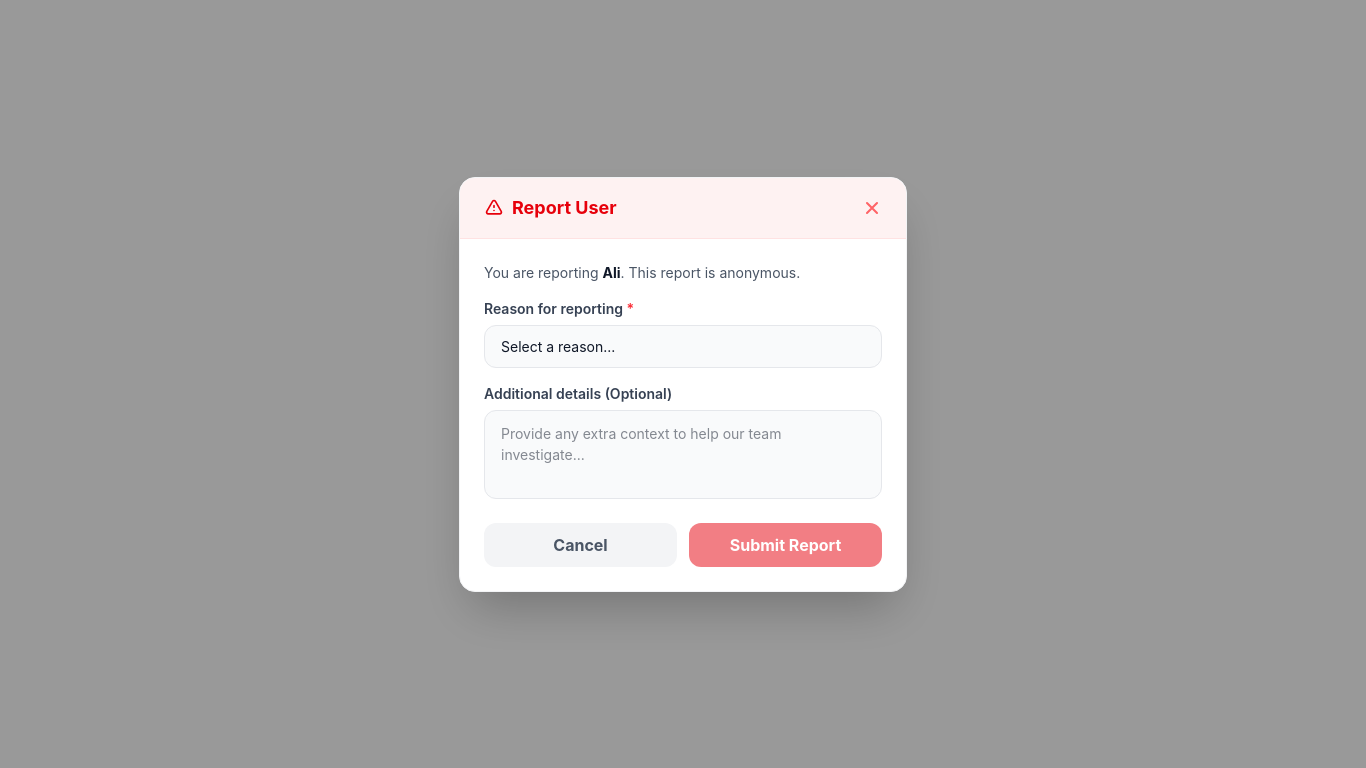
Test case: ReportModal › should submit report successfully
The image size is (1366, 768).
// Select report reason
Select "Spam or misleading" in the dropdown at (683, 346), box [484,324,882,368]
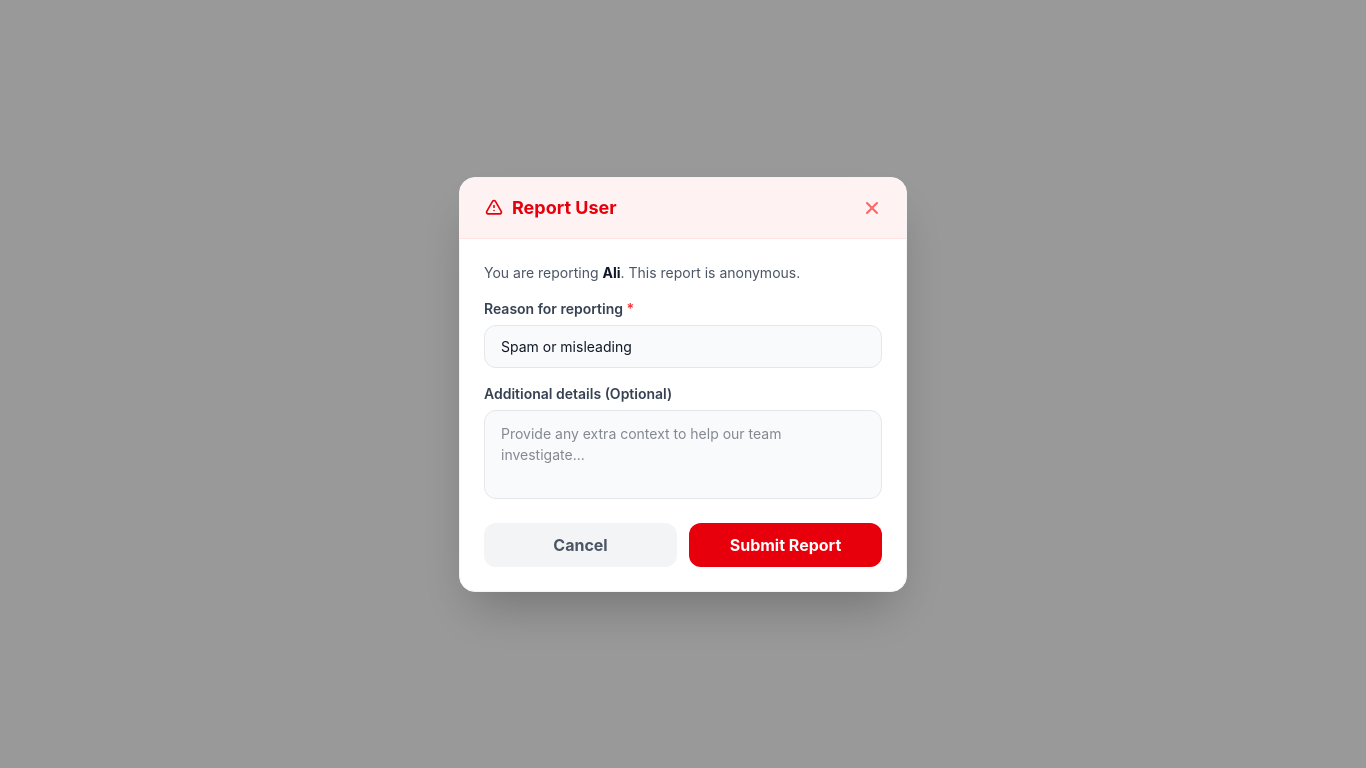
// Enter description
Type "This account is posting spam." into the text box with placeholder "Provide any extra context to help our team investigate..." at (683, 454), box [484,410,882,498]
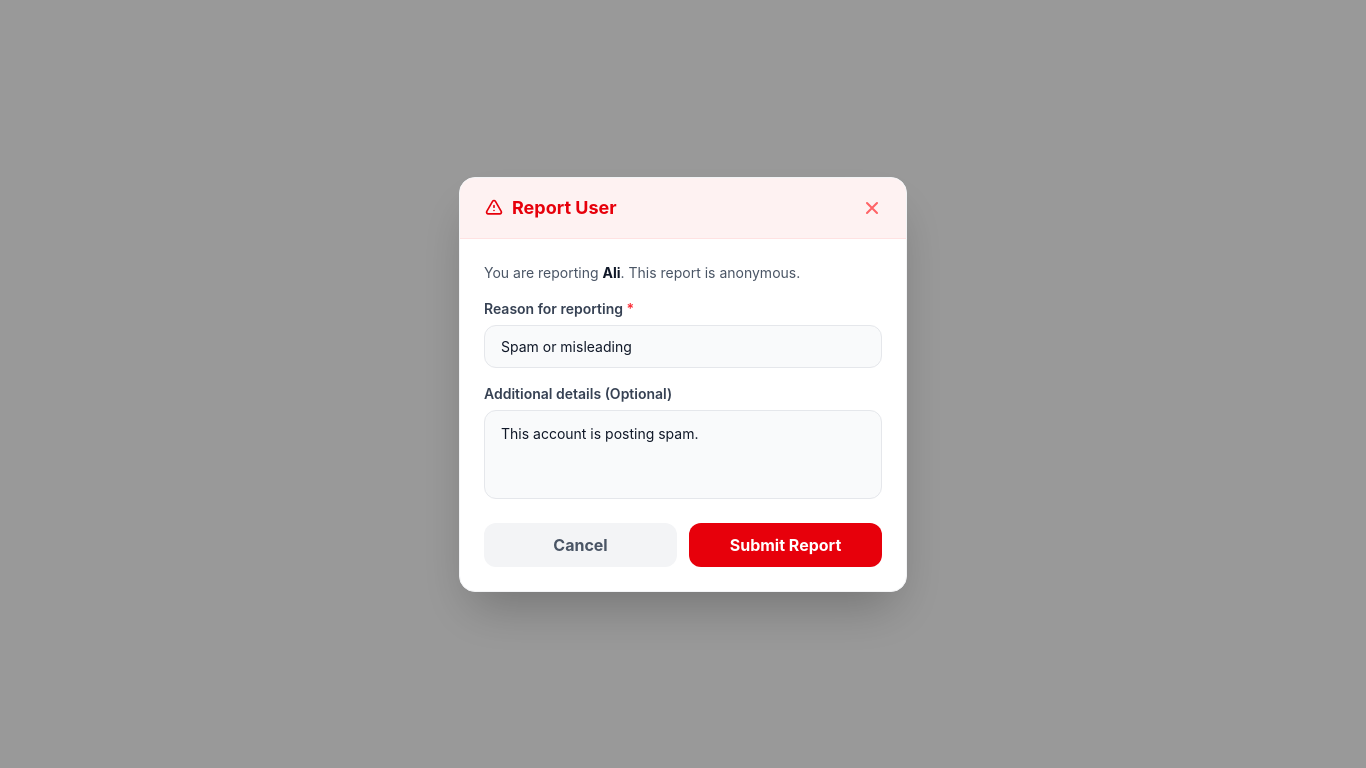
// Submit report
Click the button "Submit Report" at (786, 544), box [689,522,882,566]
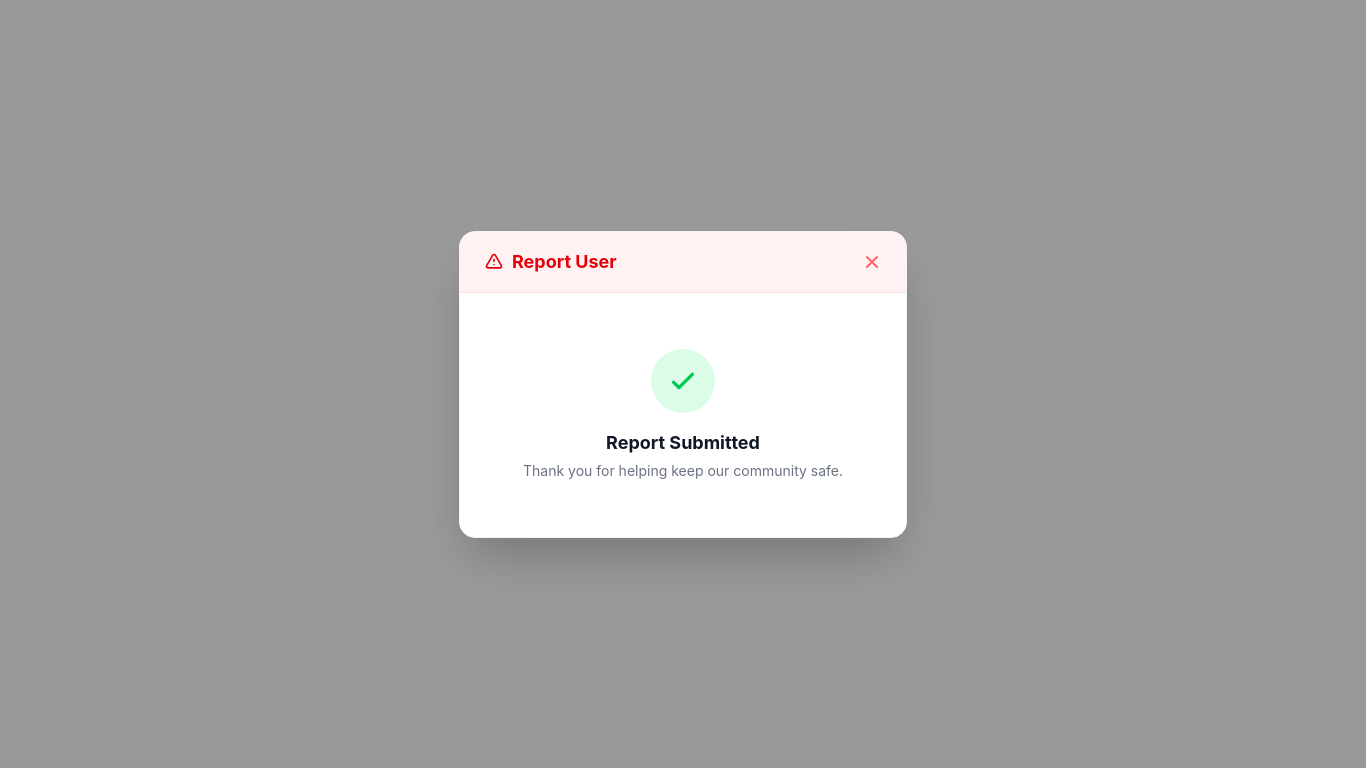
Check: the heading "Report Submitted" is shown, box [606,432,760,452]
